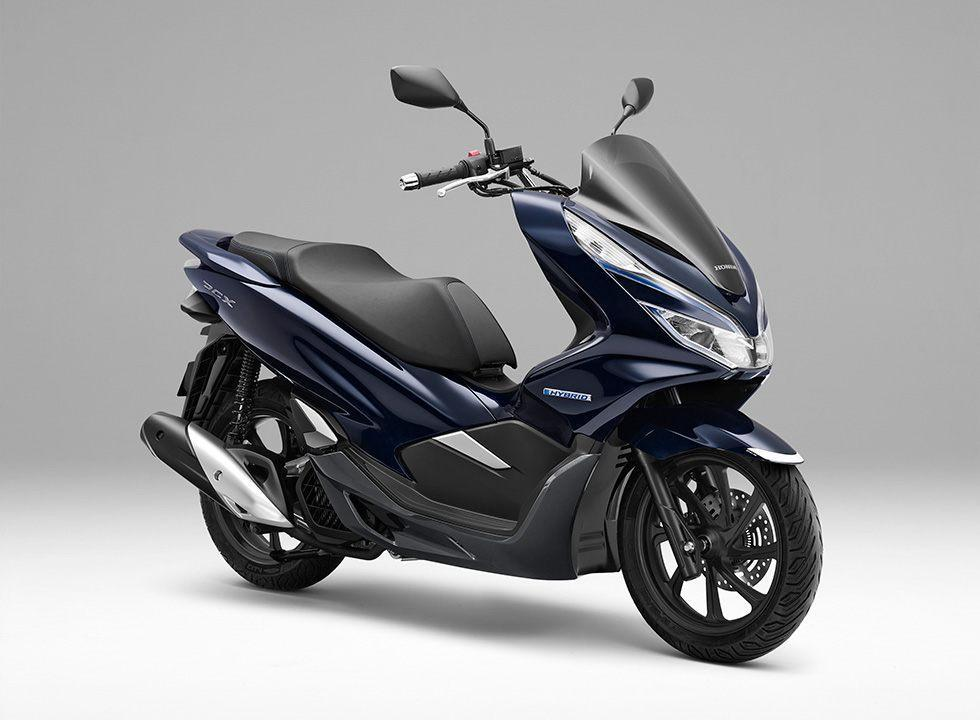motorbike: (140, 66, 823, 663)
